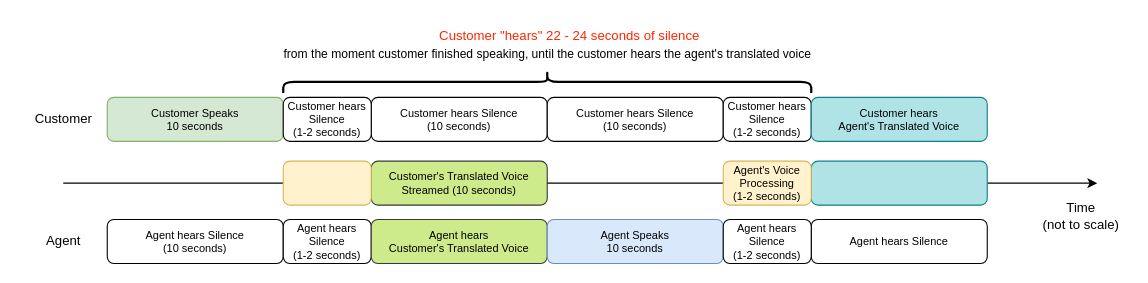
Some shapes in this 1148 by 283 pixel diagram are drawn without their labels. The shapes that lost their labels are listed below. From the top down, each one's box as (x1, y1, x2, y2) in pixels, then its label:
(282, 160, 371, 205): Customer's Voice Processing (1-2 seconds)
(810, 160, 987, 205): Agent's Translated Voice Streamed (10 seconds)
